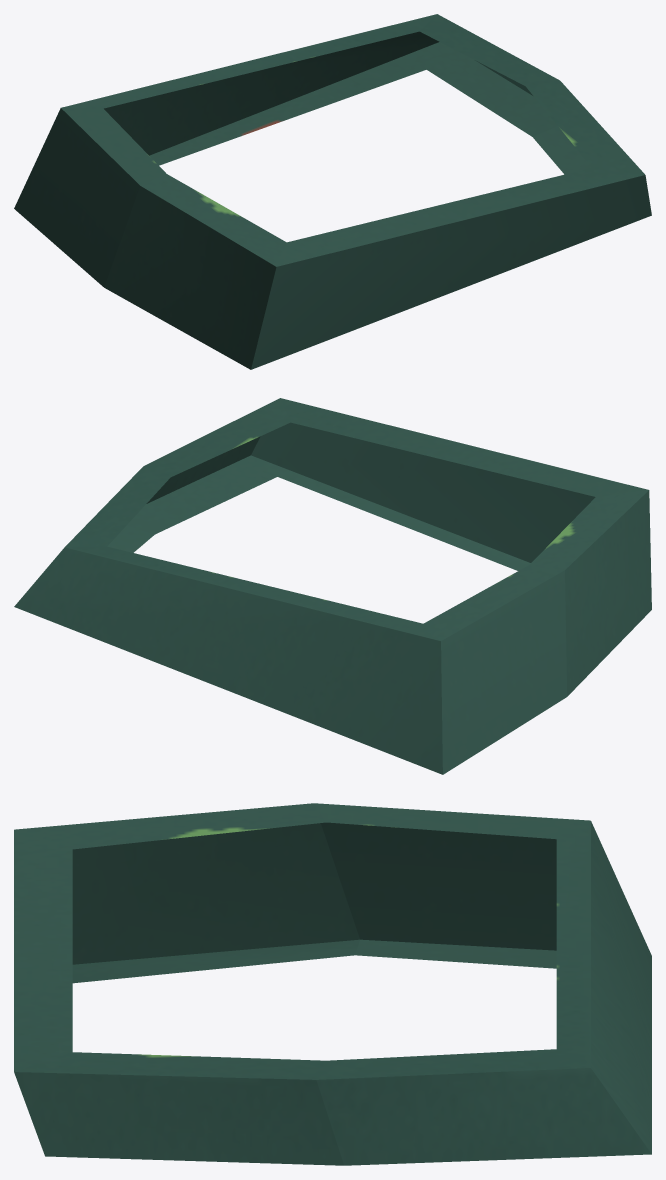
The model's file is WaistBelt.FBX.
3 renders of one model, top to bottom at view 1: azimuth 30°, elevation 25°; view 2: azimuth 150°, elevation 25°; view 3: azimuth 270°, elevation 25°, orthographic. The views are drawn at different scales.
Parts seen in each view (by area): view 1: Waist Belt; view 2: Waist Belt; view 3: Waist Belt.
Boxes of the visible parts, x1,y1,x2,y2 form: Waist Belt: (14, 14, 651, 369); Waist Belt: (14, 398, 651, 774); Waist Belt: (14, 803, 651, 1165).
Size of the model in its own units: 176 by 155 by 42.49.
1 material, 1 textured.
